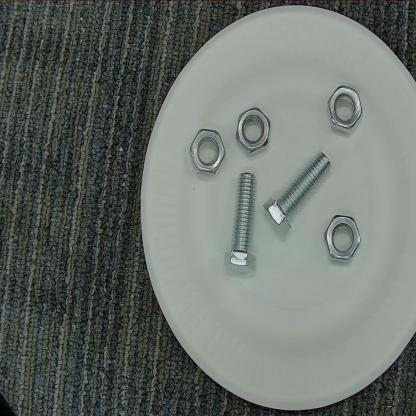FOD: (259, 149, 334, 240), (221, 170, 258, 280), (320, 209, 364, 268), (324, 83, 366, 139), (187, 124, 228, 180), (233, 104, 273, 158)
